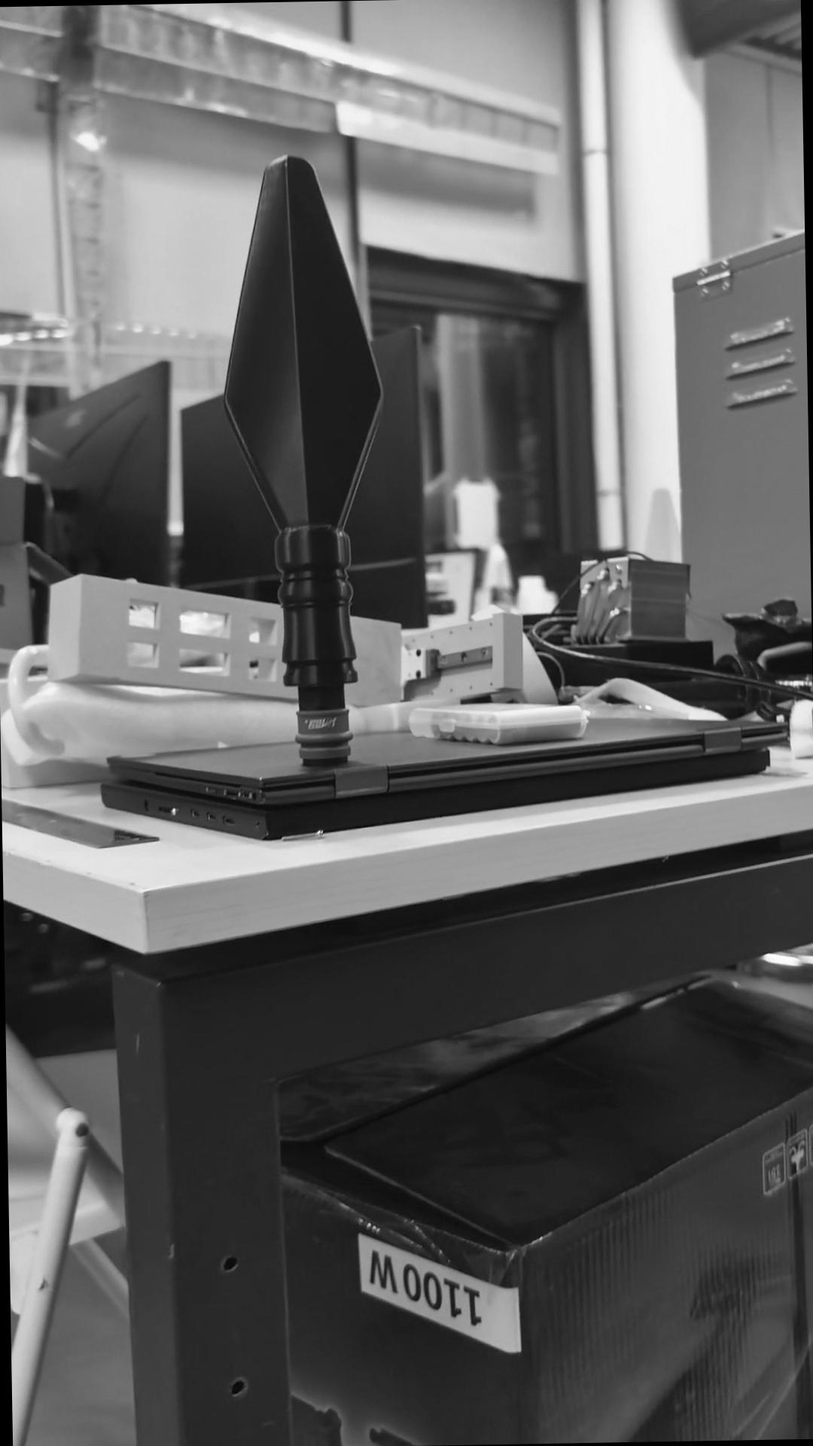base: (280, 699, 363, 778)
